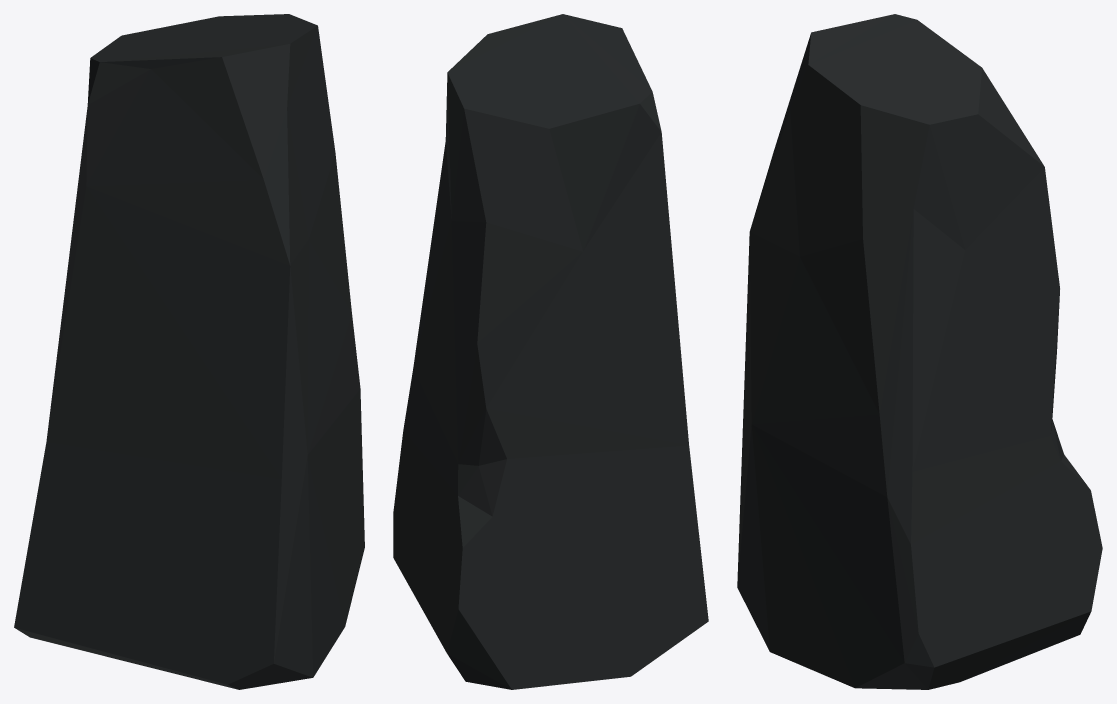
The model's file is Portal_02_Fragment_C.FBX.
The picture shows the model from 3 angles, left to right: view 1: azimuth 30°, elevation 25°; view 2: azimuth 150°, elevation 25°; view 3: azimuth 270°, elevation 25°; orthographic projection. The views are drawn at different scales.
Parts seen in each view (by area): view 1: Portal_02_Fragment_C; view 2: Portal_02_Fragment_C; view 3: Portal_02_Fragment_C.
Boxes of the visible parts, x1,y1,x2,y2 form: Portal_02_Fragment_C: (14, 14, 364, 689); Portal_02_Fragment_C: (393, 14, 708, 689); Portal_02_Fragment_C: (737, 14, 1102, 689).
Bounding box in the file's own units: 1.06 × 1.81 × 1.02.
